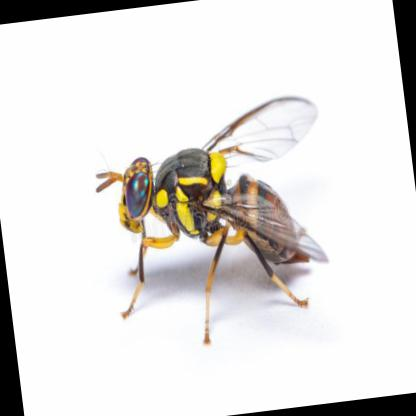fruit fly: (96, 97, 329, 341)
